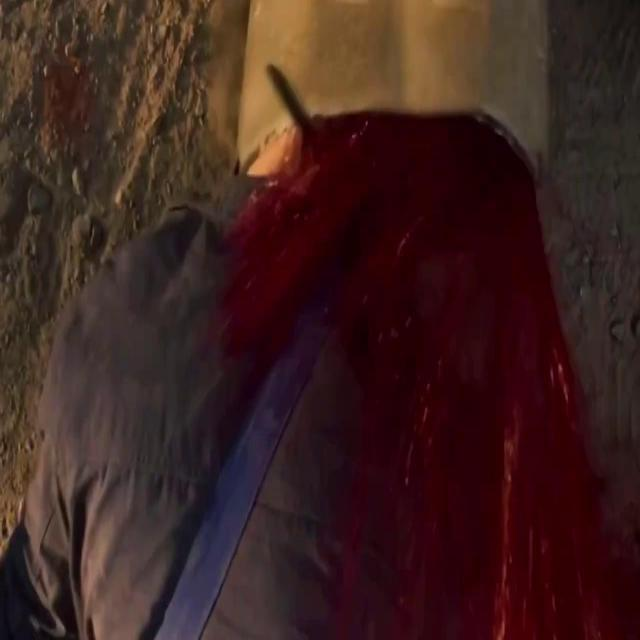flood: (192, 83, 601, 634)
